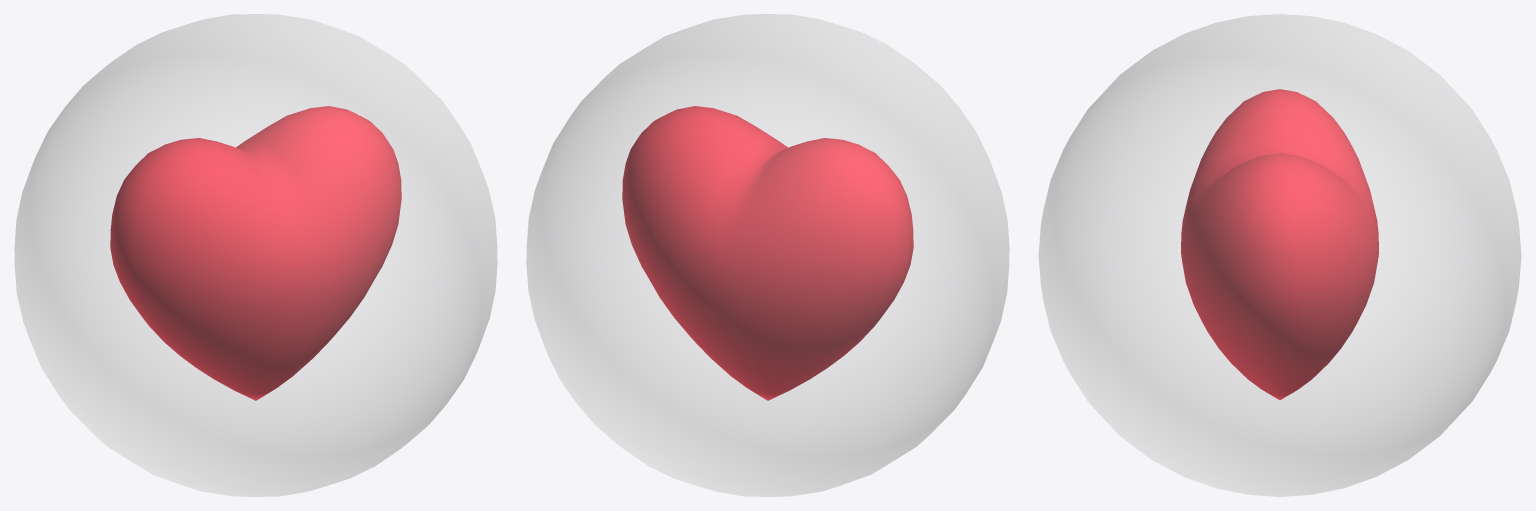
The model's file is heart_in_love_gtlf.glb.
The picture shows the model from 3 angles, left to right: view 1: azimuth 30°, elevation 25°; view 2: azimuth 150°, elevation 25°; view 3: azimuth 270°, elevation 25°; orthographic projection.
Parts seen in each view (by area): view 1: Marble, Heart; view 2: Marble, Heart; view 3: Marble, Heart.
Boxes of the visible parts, left/top/right/bottom form: Marble: left=14, top=14, right=497, bottom=496; Heart: left=110, top=106, right=401, bottom=400; Marble: left=526, top=14, right=1009, bottom=496; Heart: left=622, top=106, right=913, bottom=400; Marble: left=1038, top=14, right=1521, bottom=496; Heart: left=1181, top=89, right=1378, bottom=399.
Size of the model in its own units: 2 by 2 by 2.
2 materials, 2 textured.
